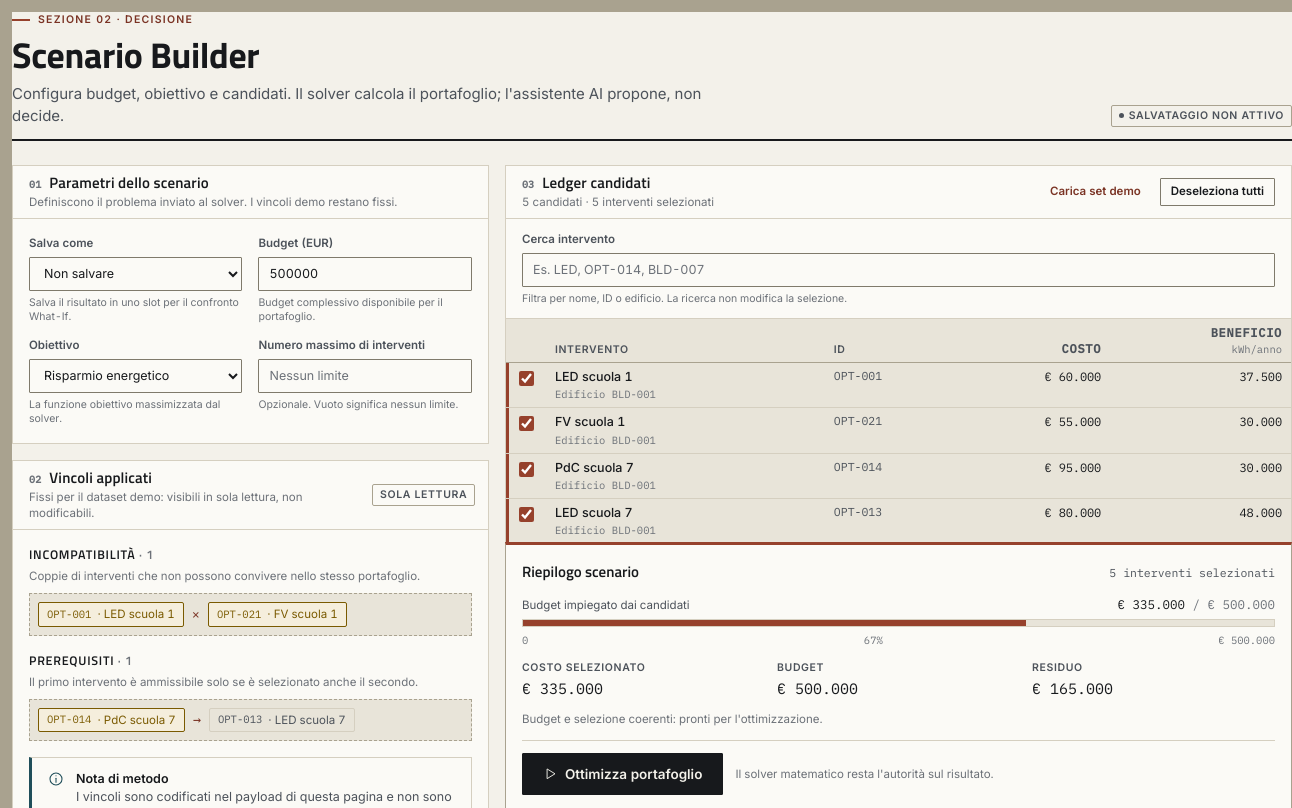
Test case: ScenarioBuilder › aggiorna il riepilogo sticky con costo e numero di selezionati
Expected: the text "5 interventi selezionati" is shown, [1109,565,1275,581]
Expected: the text "€ 335.000" is shown, [1117,596,1185,612]
Click the checkbox named "Seleziona LED scuola 1".
click(526, 378)  # box [519,371,534,386]
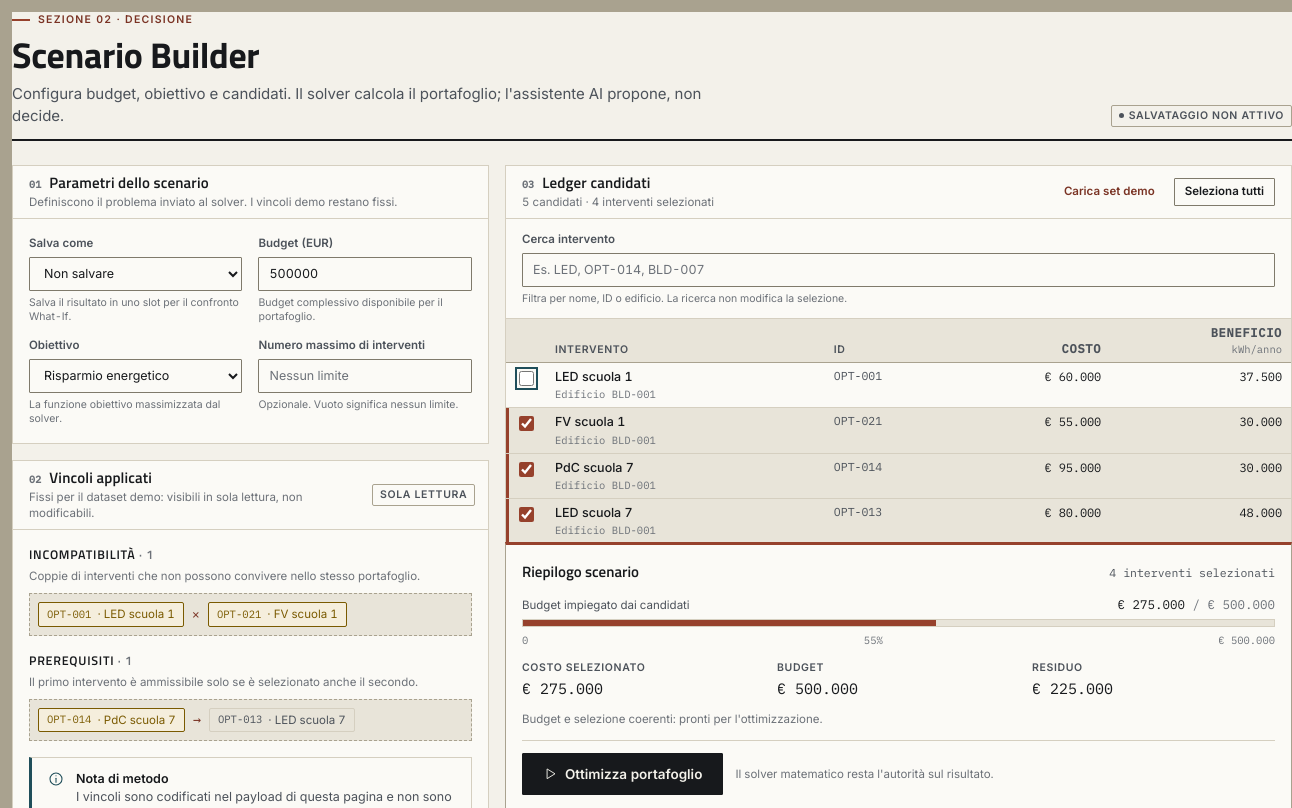
Expected: the text "4 interventi selezionati" is shown, [1109,565,1275,581]
Expected: the text "€ 275.000" is shown, [1117,596,1185,612]
